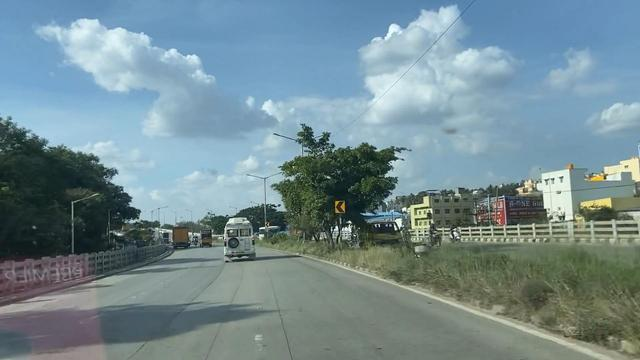HMV: (219, 215, 258, 266)
